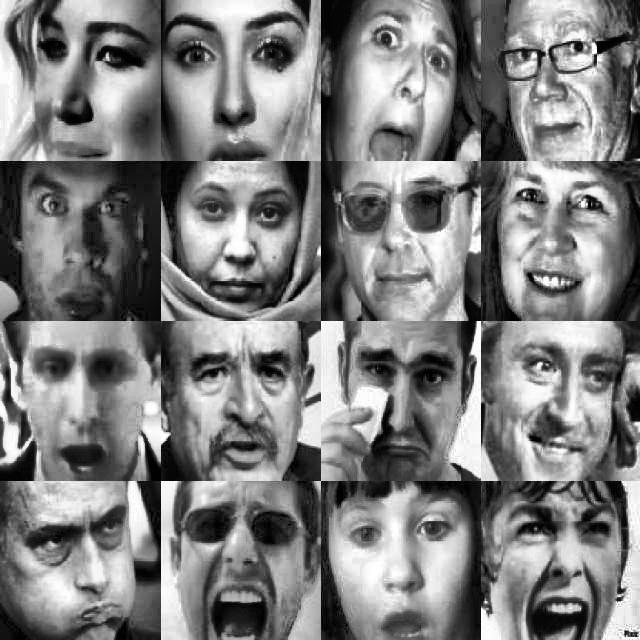angry: (177, 492, 300, 640), (182, 336, 296, 474), (26, 495, 137, 633)
fear: (161, 8, 307, 157), (494, 492, 623, 640), (335, 495, 463, 639), (22, 168, 142, 317), (345, 3, 461, 155), (24, 334, 138, 474)
happy: (26, 4, 152, 160), (499, 165, 625, 314), (506, 332, 624, 474)
neutral: (333, 169, 462, 309), (495, 8, 613, 157), (183, 168, 299, 314)
sad: (352, 337, 460, 465)
